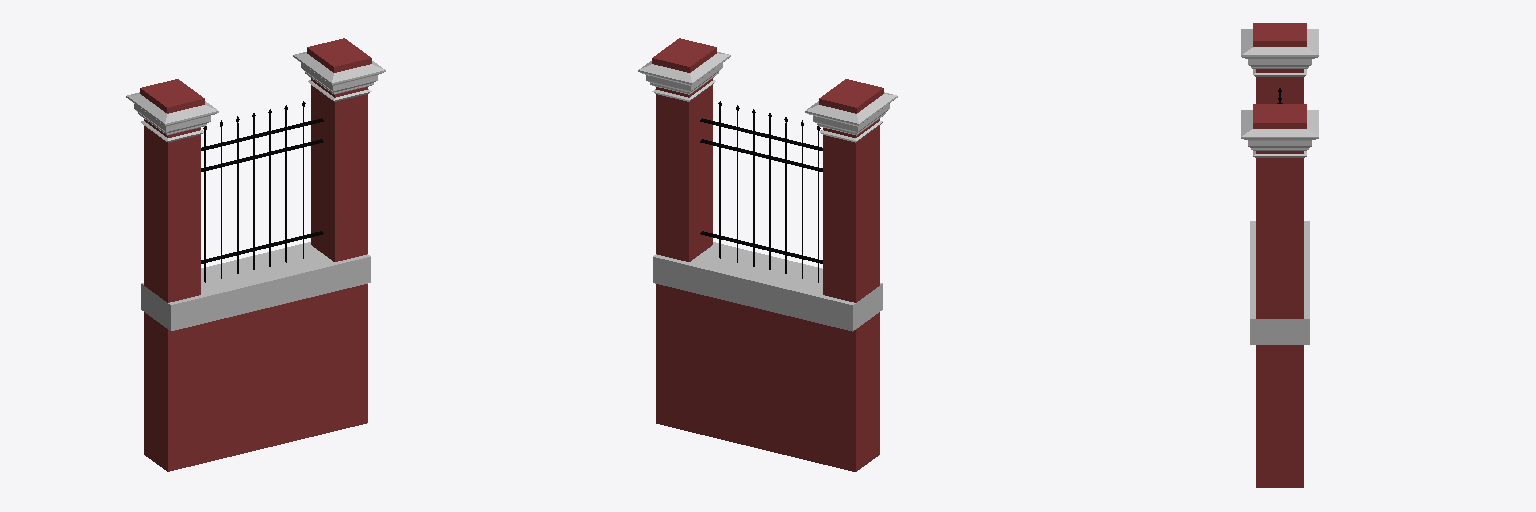
Rendered from muroFechado.obj.
3 renders of one model, left to right at view 1: azimuth 30°, elevation 25°; view 2: azimuth 150°, elevation 25°; view 3: azimuth 270°, elevation 25°, orthographic.
Visible parts, largest first — view 1: Muro; view 2: Muro; view 3: Muro.
Part boxes in pixels (left/top/right/bottom): Muro: left=126, top=38, right=385, bottom=471; Muro: left=638, top=38, right=897, bottom=471; Muro: left=1241, top=23, right=1318, bottom=487.
Size of the model in its own units: 2.21 by 3.5 by 0.6715.